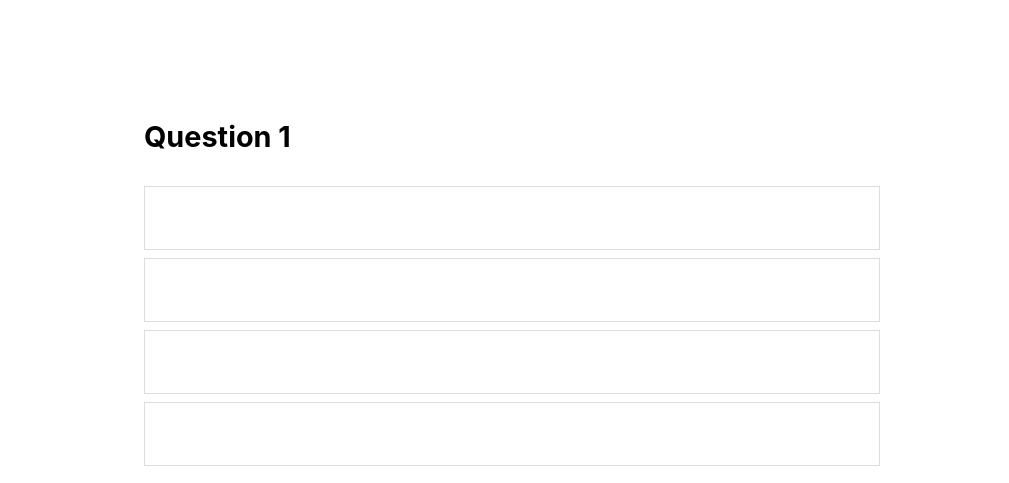
Test: Carousel — interaction › shows answer reveal after a correct choice is selected
Click the 1st button at (512, 218), box [144, 186, 880, 250]
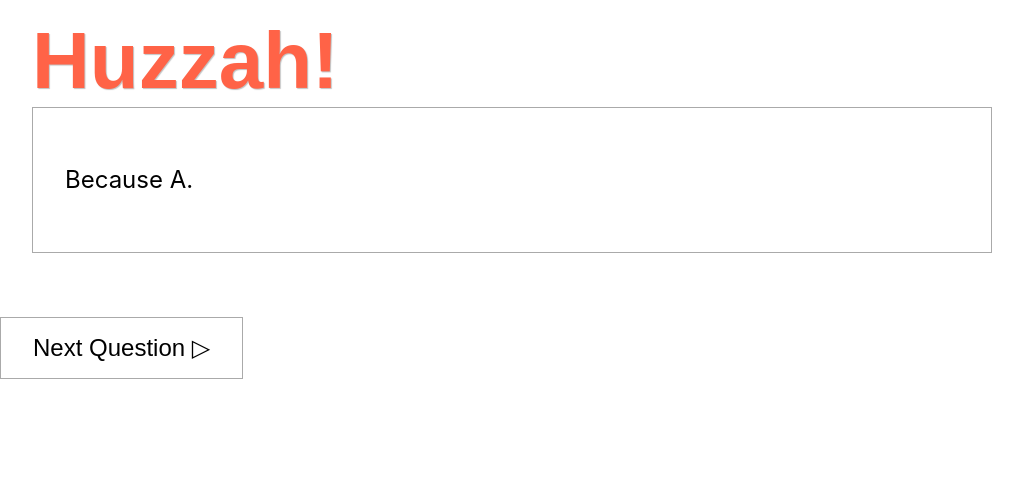
Check: the heading "Huzzah!" is shown, box [32, 16, 339, 105]
